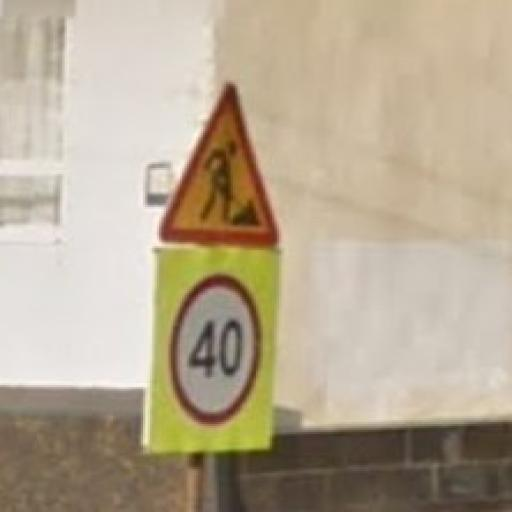traffic_sign: (158, 85, 282, 251), (172, 275, 264, 427)
